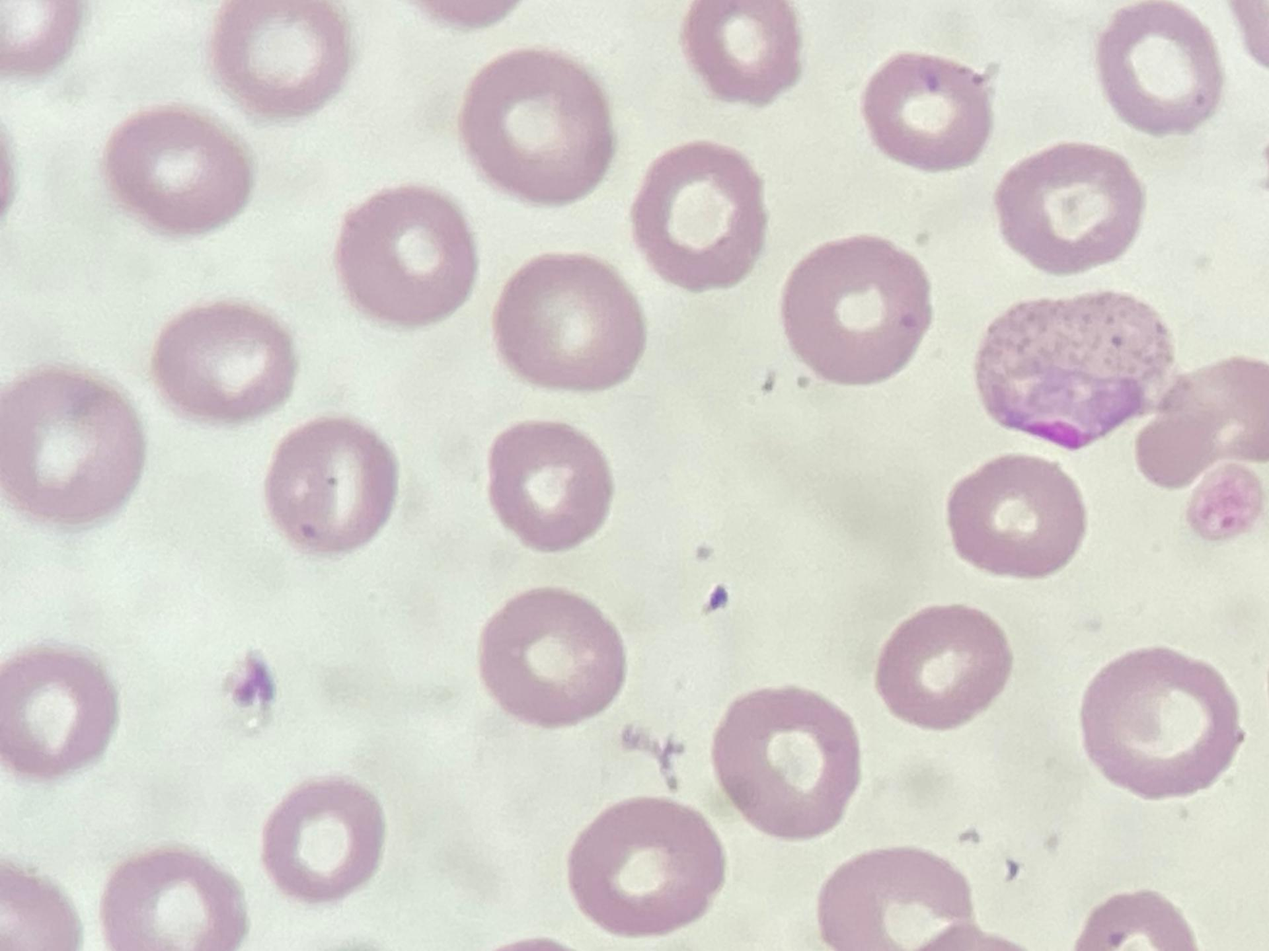Infected: (91, 503, 293, 660)
Uninfected: (28, 151, 188, 303), (658, 742, 808, 903), (339, 562, 488, 716), (410, 113, 559, 263), (549, 17, 705, 156), (1127, 428, 1269, 580), (621, 555, 773, 695), (641, 223, 788, 364), (127, 674, 274, 810), (791, 622, 931, 764), (506, 661, 637, 806), (1018, 712, 1161, 843), (973, 521, 1117, 645), (294, 0, 457, 105), (178, 370, 317, 492), (1148, 167, 1269, 306), (46, 818, 176, 946), (872, 400, 999, 529), (919, 831, 1050, 951), (258, 220, 387, 341), (658, 400, 776, 530), (278, 779, 402, 896), (1024, 0, 1167, 101), (886, 47, 1006, 167), (469, 846, 588, 951)
